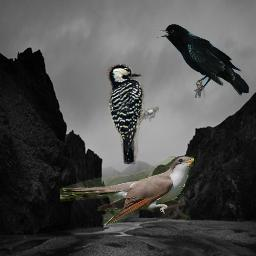Crow: (156, 24, 249, 98)
Cuckoo: (60, 156, 194, 225)
Woodpecker: (106, 62, 159, 165)
